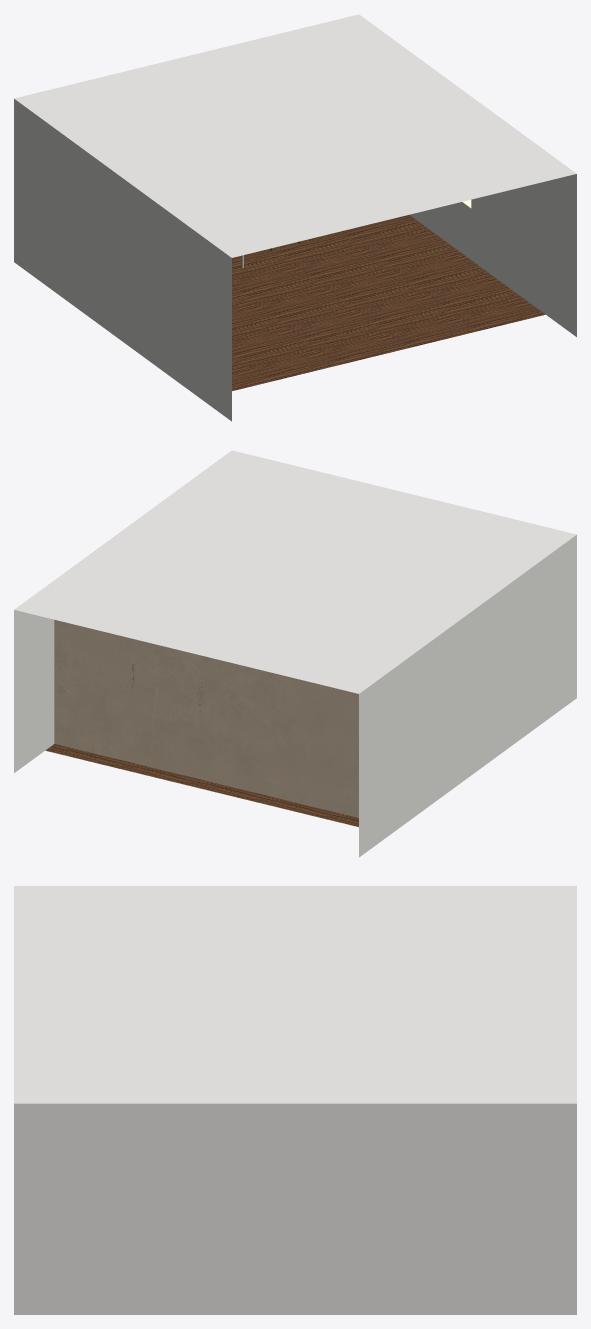
Rendered from room.glb.
3 renders of one model, top to bottom at view 1: azimuth 30°, elevation 25°; view 2: azimuth 150°, elevation 25°; view 3: azimuth 270°, elevation 25°, orthographic. The views are drawn at different scales.
Visible parts, largest first — view 1: ceiling, wall_left, floor, wall_right; view 2: ceiling, wall_back, wall_left, wall_right, floor; view 3: ceiling, wall_right.
Part boxes in pixels (box(x1,y1,x2,y2)): ceiling: box(14, 14, 576, 257); wall_left: box(14, 99, 231, 421); floor: box(232, 215, 545, 390); wall_right: box(409, 174, 576, 336); ceiling: box(14, 450, 576, 693); wall_back: box(54, 619, 358, 817); wall_left: box(359, 535, 576, 857); wall_right: box(14, 610, 54, 772); floor: box(45, 744, 358, 826); ceiling: box(14, 886, 576, 1103); wall_right: box(14, 1103, 576, 1314).
Size of the model in its own units: 6.4 by 2.9 by 7.
100 materials, 6 textured.
